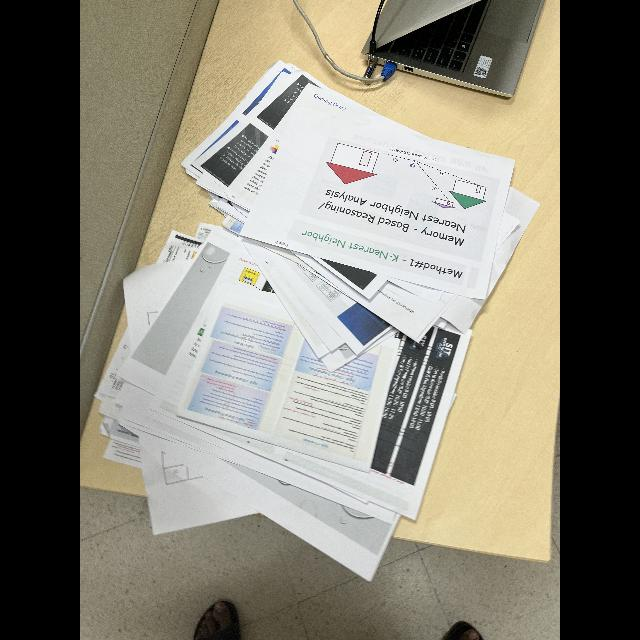reuseable_paper: (102, 61, 524, 581)
